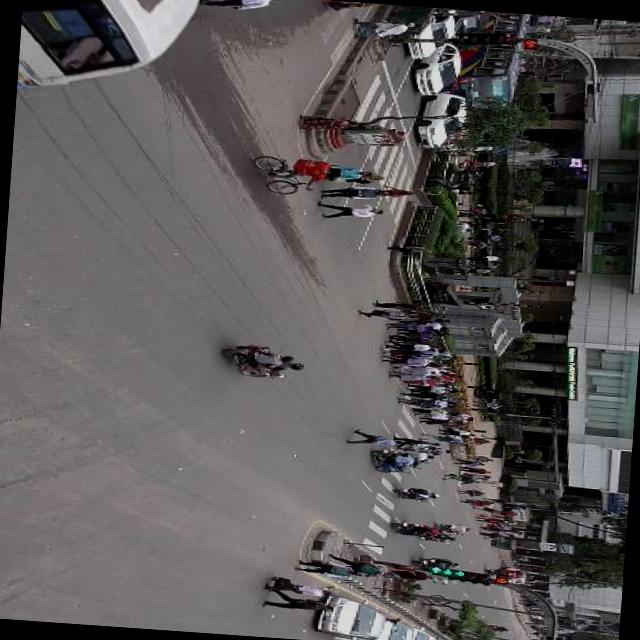car: (314, 588, 393, 640), (408, 90, 474, 151), (407, 36, 466, 100)
motorcycle: (213, 340, 307, 384), (364, 444, 416, 477), (387, 516, 440, 539), (391, 482, 433, 502)
